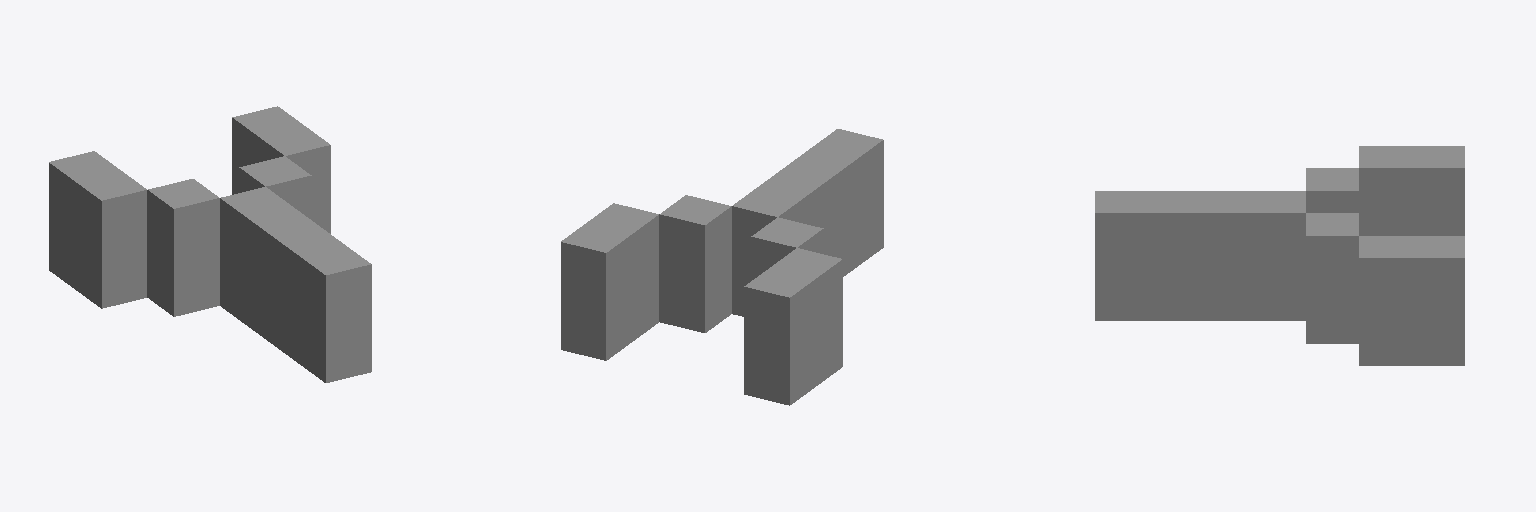
The picture shows the model from 3 angles: view 1: azimuth 30°, elevation 25°; view 2: azimuth 150°, elevation 25°; view 3: azimuth 270°, elevation 25°; orthographic projection.
Parts seen in each view (by area): view 1: Y_CUABC.025; view 2: Y_CUABC.025; view 3: Y_CUABC.025.
Boxes of the visible parts, x1,y1,x2,y2 form: Y_CUABC.025: [49, 106, 371, 382]; Y_CUABC.025: [561, 129, 883, 405]; Y_CUABC.025: [1095, 146, 1464, 365].
Size of the model in its own units: 0.5556 by 0.25 by 0.7778.